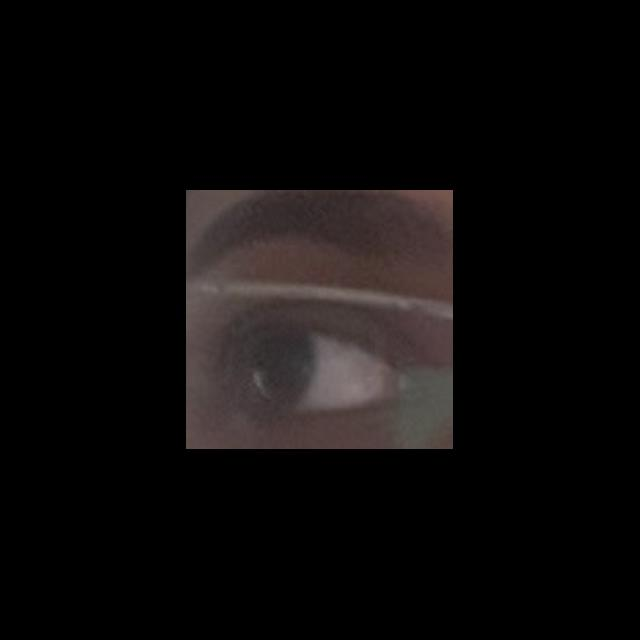eye: (249, 331, 403, 409)
iris: (253, 333, 313, 407)
